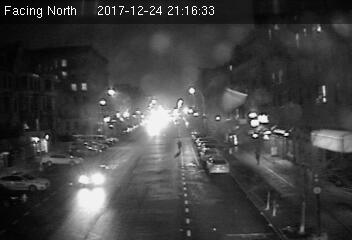car: (76, 163, 105, 189), (206, 156, 228, 174)
